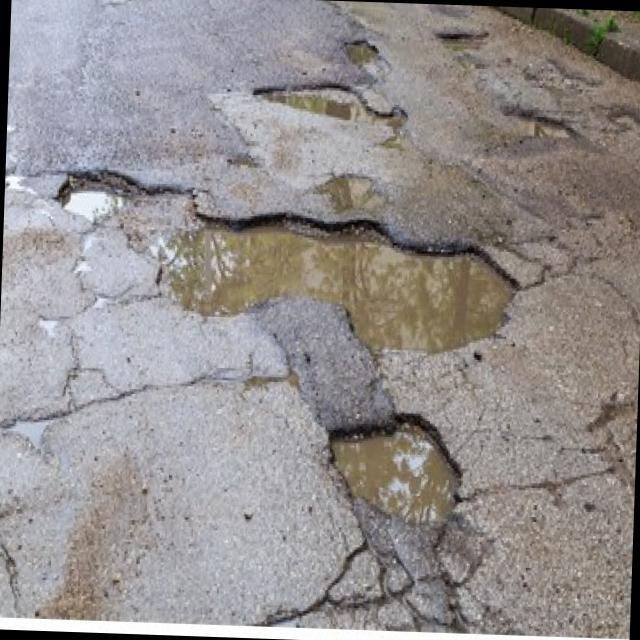Pothole: (48, 168, 528, 366), (324, 405, 468, 526), (245, 77, 412, 134), (481, 102, 576, 150), (434, 29, 494, 60), (342, 34, 382, 68)
